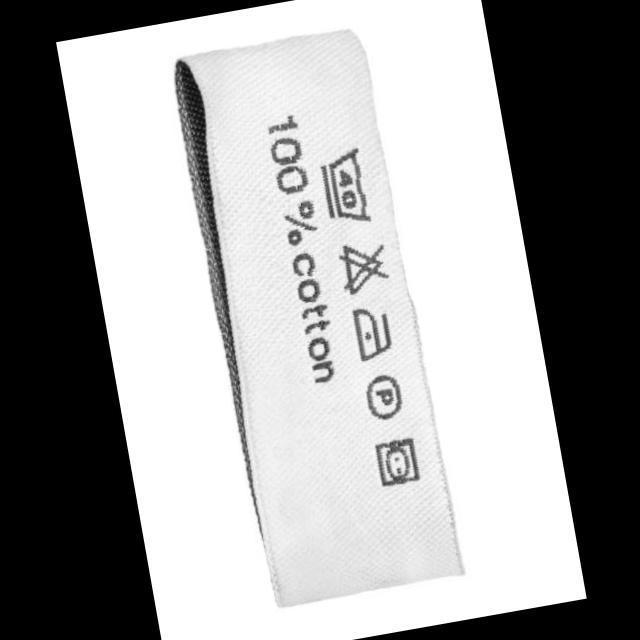40C: (314, 144, 377, 232)
DN_bleach: (329, 234, 396, 304)
iron_low: (342, 300, 398, 367)
normal_dry_clean_solvents: (356, 369, 410, 428)
tumble_dry_medium: (369, 432, 426, 489)
